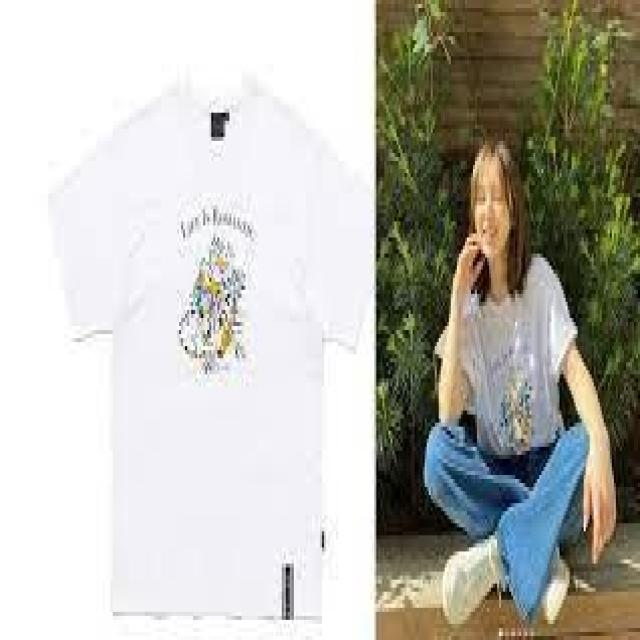Tshirt: (31, 66, 374, 630), (430, 270, 584, 471)
pants: (422, 417, 606, 606)
